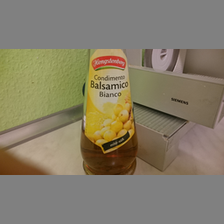vinegar: (80, 49, 139, 175)
